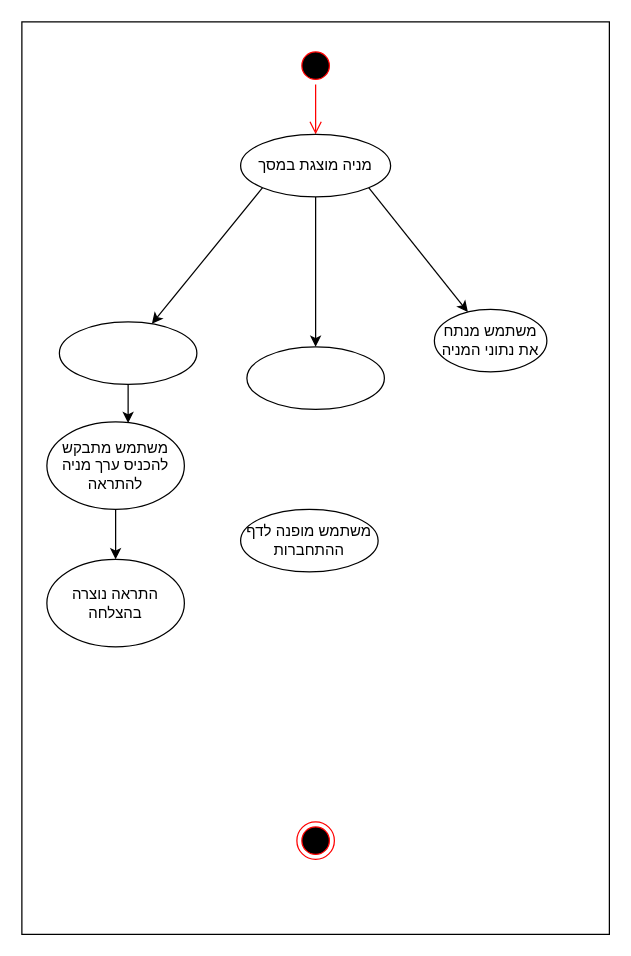
This 631x956 diagram has some shape labels left out. The shapes that lost their labels are listed below. From the top down, each one's box as (x1, y1, x2, y2) in pixels, then its label:
(58, 321, 197, 384): משתמש מוסיף התראה
(246, 346, 384, 409): משתמש מוסיף מניה לתיק
